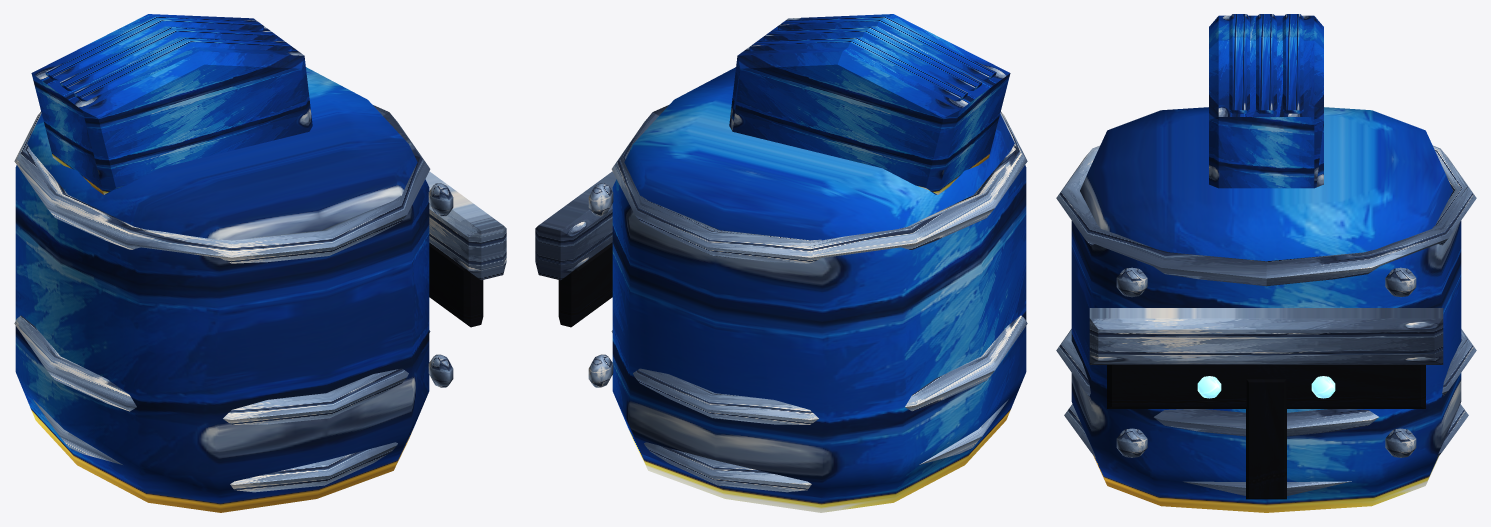
Rendered from cobalt-helmet.glb.
3 views of the same model, side by side, from view 1: azimuth 30°, elevation 25°; view 2: azimuth 150°, elevation 25°; view 3: azimuth 270°, elevation 25° (orthographic). The views are drawn at different scales.
Visible parts, largest first — view 1: head; view 2: head; view 3: head.
Part boxes in pixels (box(x1,y1,x2,y2)): head: box(14, 14, 506, 512); head: box(535, 14, 1027, 512); head: box(1056, 14, 1476, 512).
Size of the model in its own units: 0.4195 by 0.4456 by 0.4392.
Materials: 4 (4 with a texture image).
